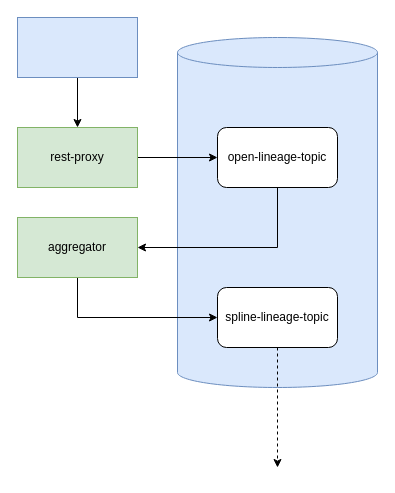
Some shapes in this 395 by 493 pixel diagram are drawn without their labels. The box of each missing label's shape, as (x1, y1, x2, y2) in pixels:
Kafka: (176, 36, 378, 388)
Open Lineage Agent / Integration: (16, 16, 138, 78)
